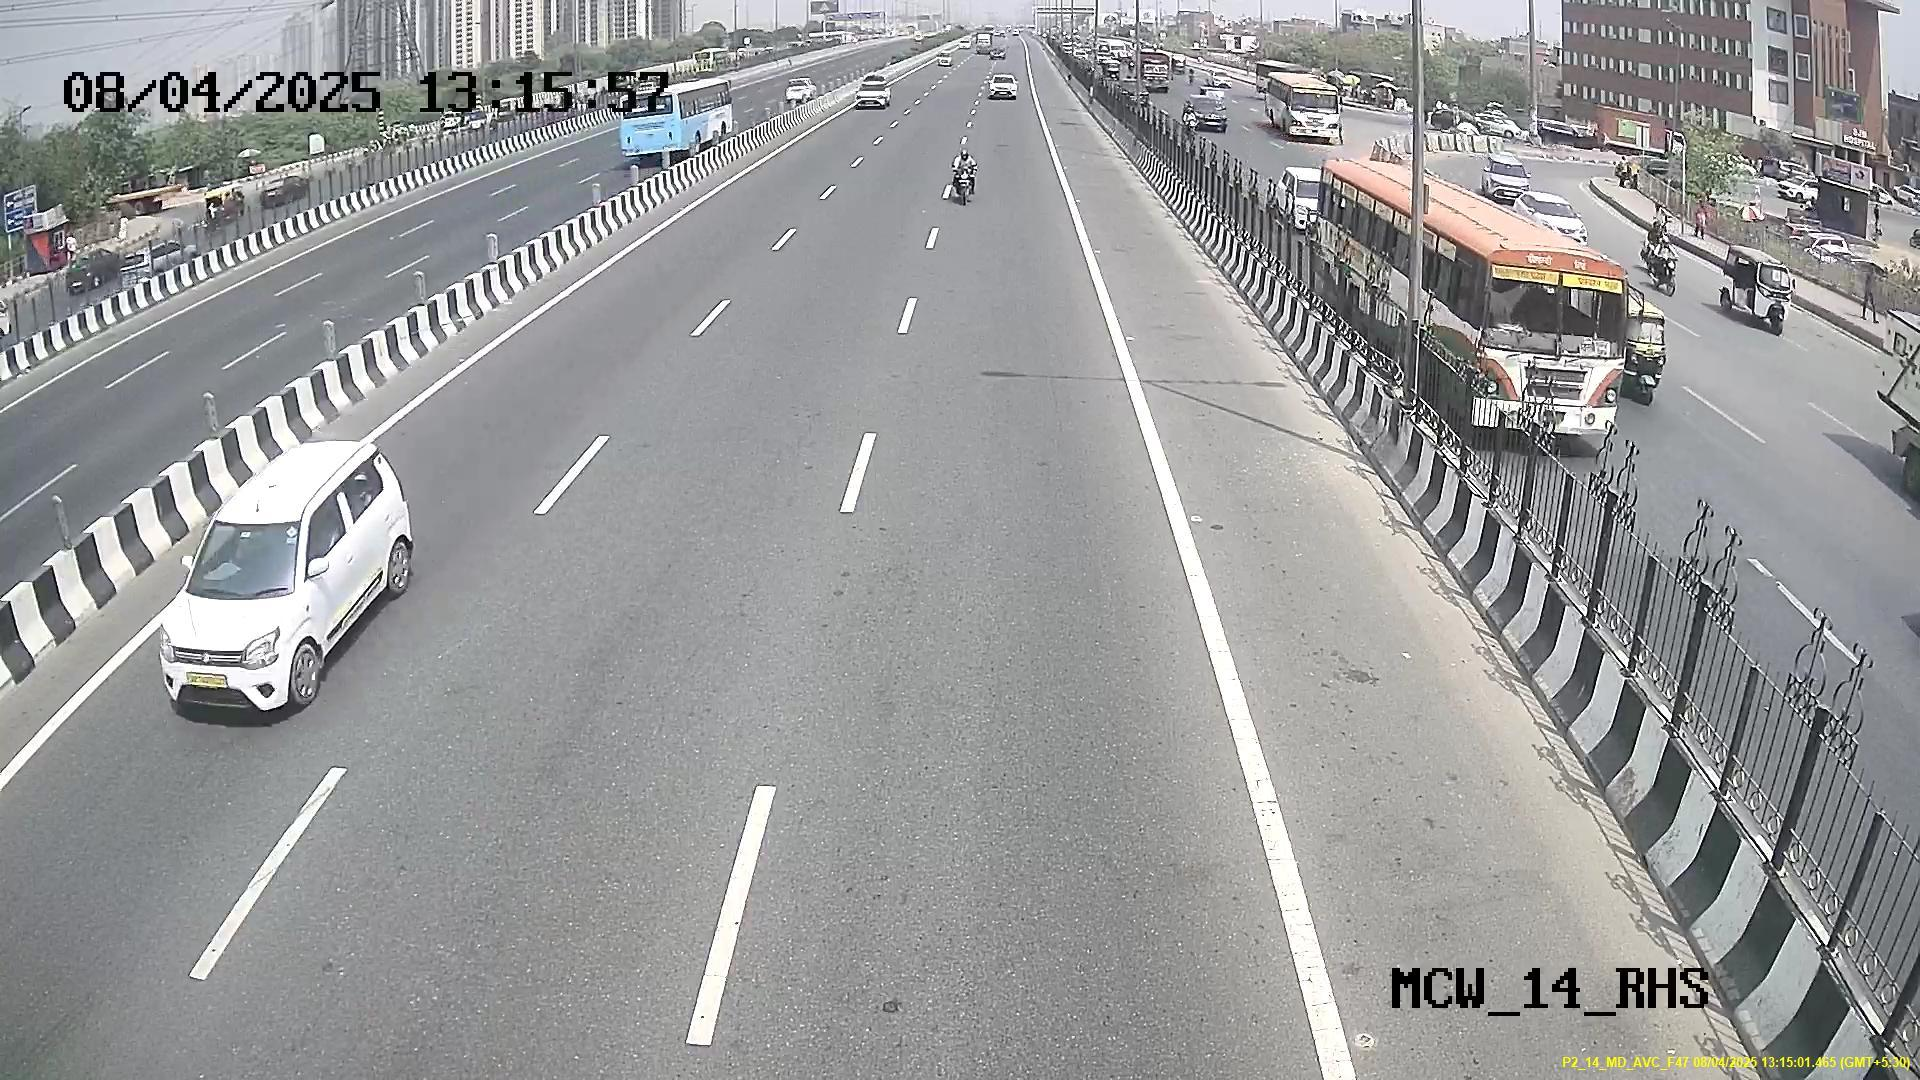car: (152, 481, 355, 717)
